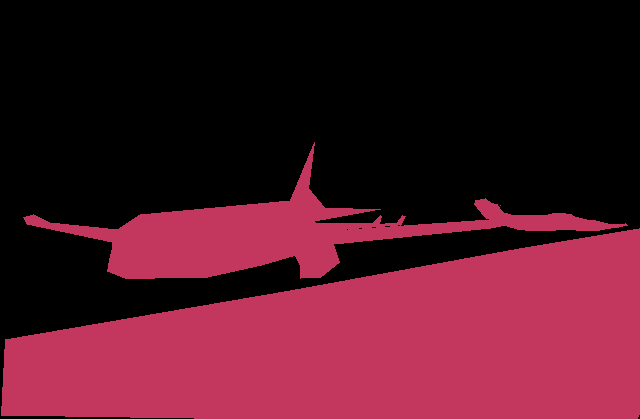Airplane: (1, 228, 640, 419), (23, 142, 559, 279), (474, 198, 627, 231), (315, 215, 400, 231), (385, 215, 406, 226)
